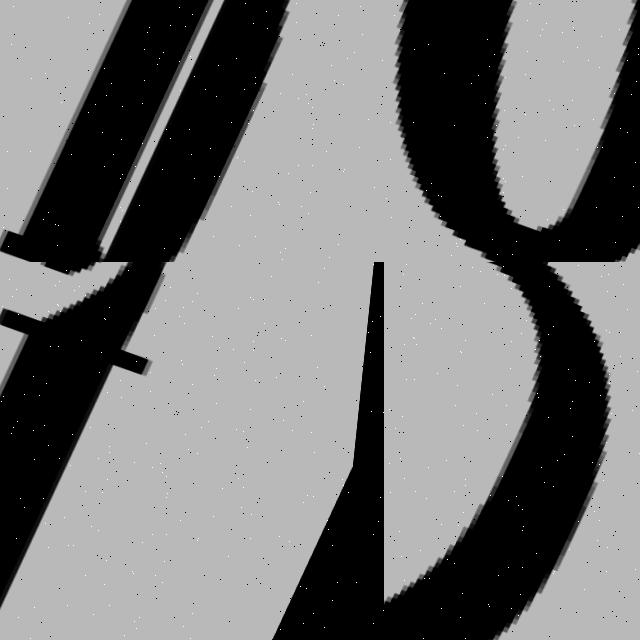0: (384, 0, 640, 262)
C: (384, 262, 613, 640)
D: (0, 0, 384, 262)
F: (0, 262, 245, 640)
